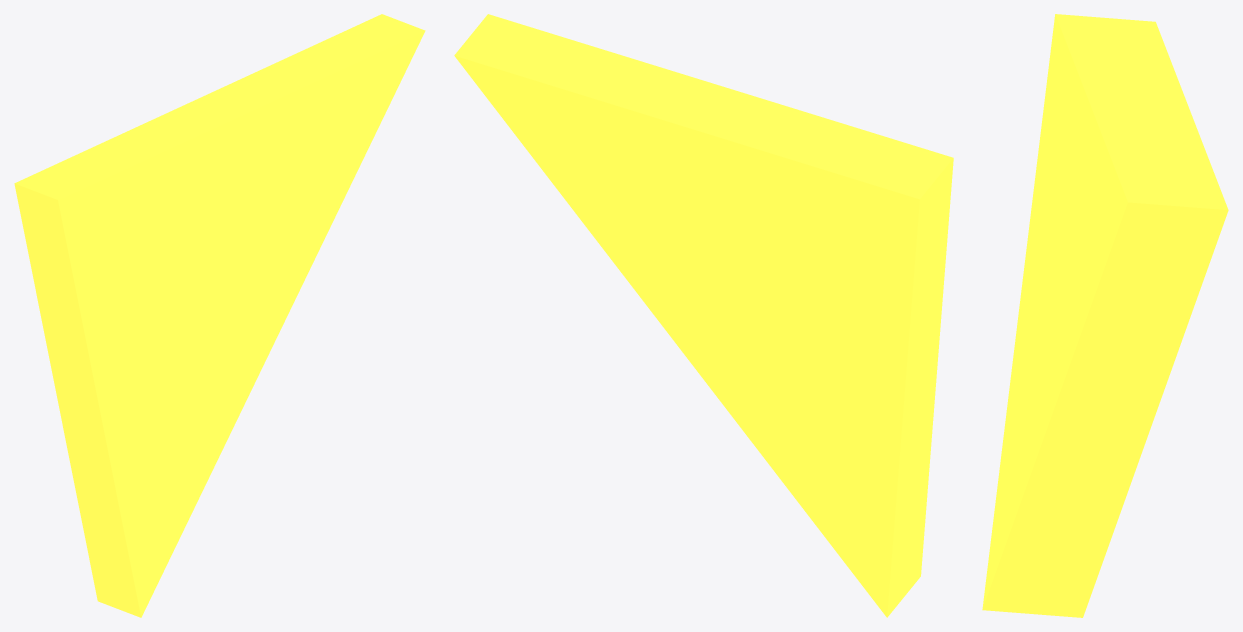
The model's file is arrow_03_pipa2.fbx.
3 renders of one model, left to right at view 1: azimuth 30°, elevation 25°; view 2: azimuth 150°, elevation 25°; view 3: azimuth 270°, elevation 25°, orthographic. The views are drawn at different scales.
Parts seen in each view (by area): view 1: Cube.035; view 2: Cube.035; view 3: Cube.035.
Boxes of the visible parts, <box> form: Cube.035: <box>14,14,425,617</box>; Cube.035: <box>454,14,953,617</box>; Cube.035: <box>982,14,1228,617</box>.
Size of the model in its own units: 4.13 by 4.67 by 1.62.
